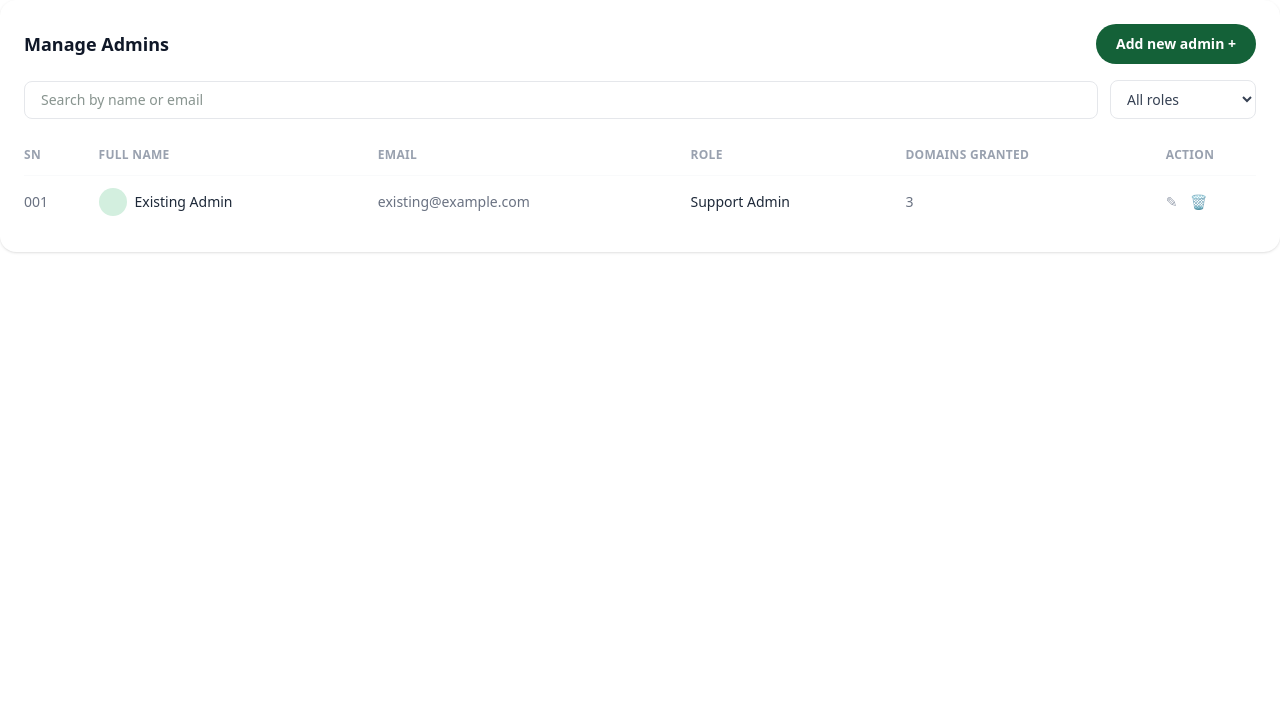
ManageAdmins › asks for confirmation via a modal, not a native dialog, before deleting an admin
Click the button named "Delete admin": [1198, 202] box [1190, 192, 1206, 212]
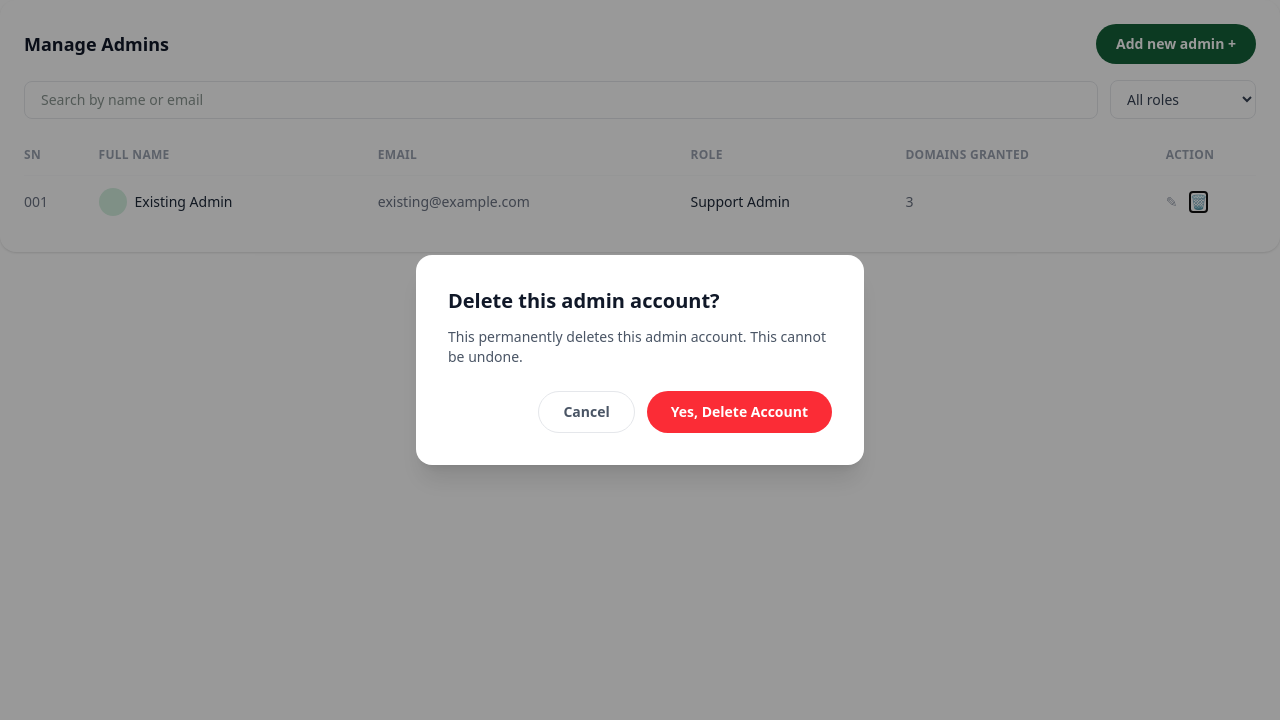
Result: the text "permanently deletes this admin account" is shown at [448, 327, 826, 366]
Click the button "Cancel": [587, 412] box [538, 391, 635, 433]
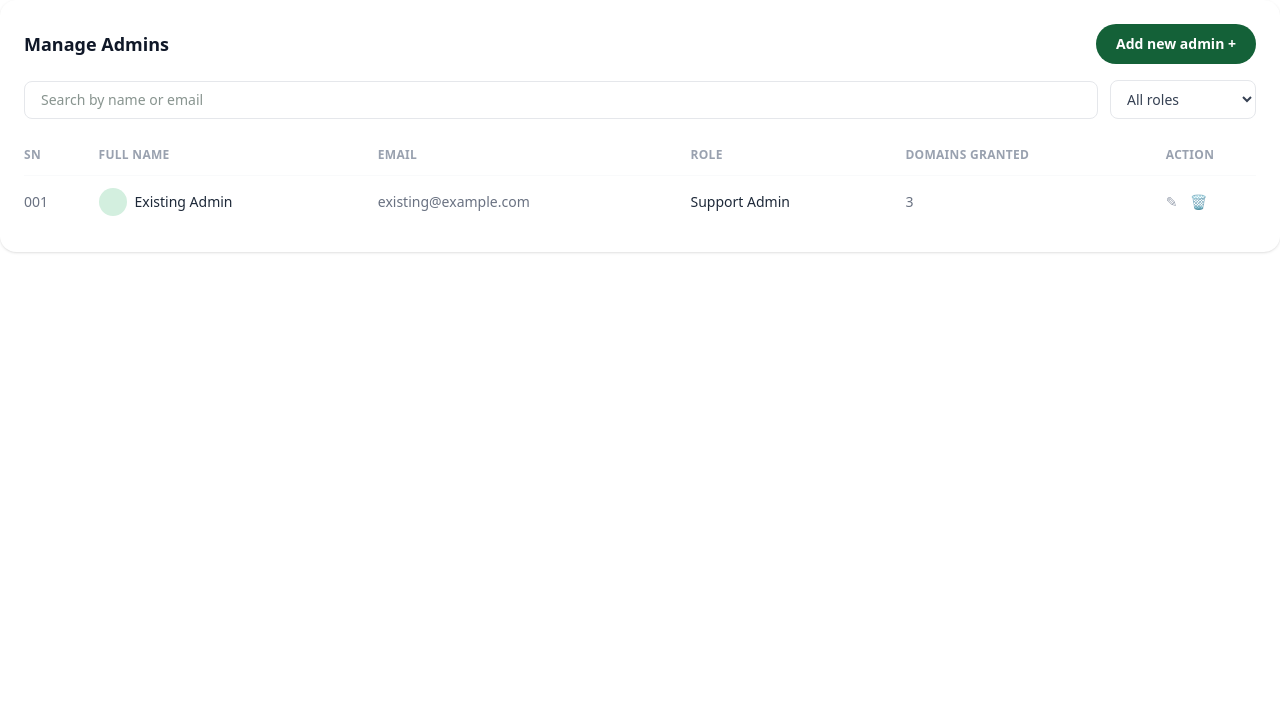
Result: the button "Yes, Delete Account" is gone
